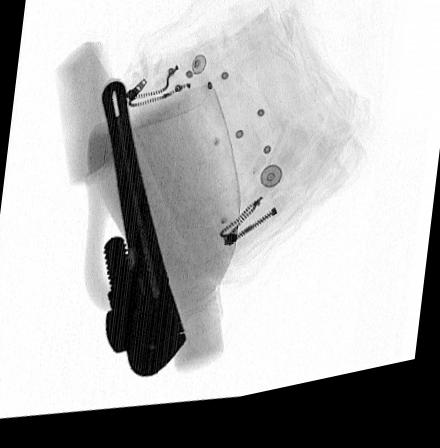Wrench: (100, 85, 188, 385)
